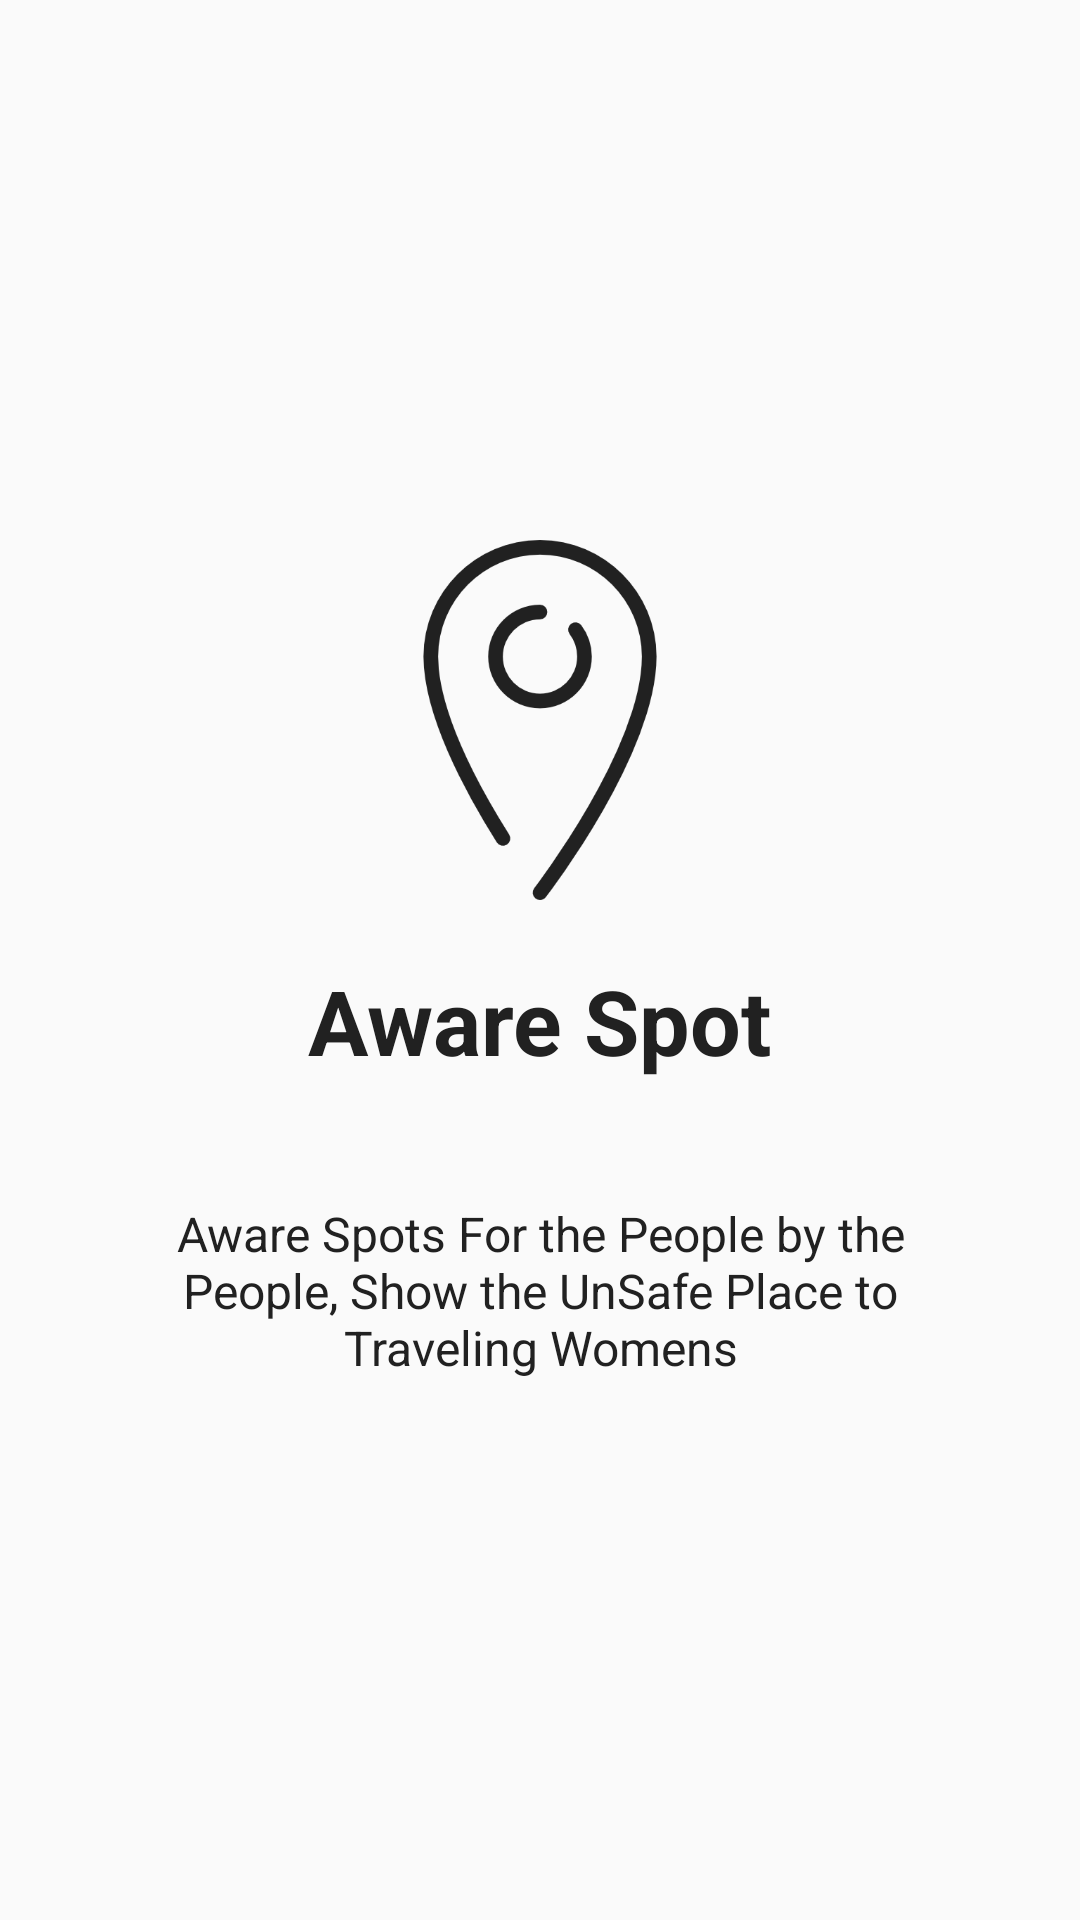

Where icons sit on this 1080 × 1920 app screen, as box=[x1, y1, x2, y2]:
pin: box=[423, 540, 657, 900]
